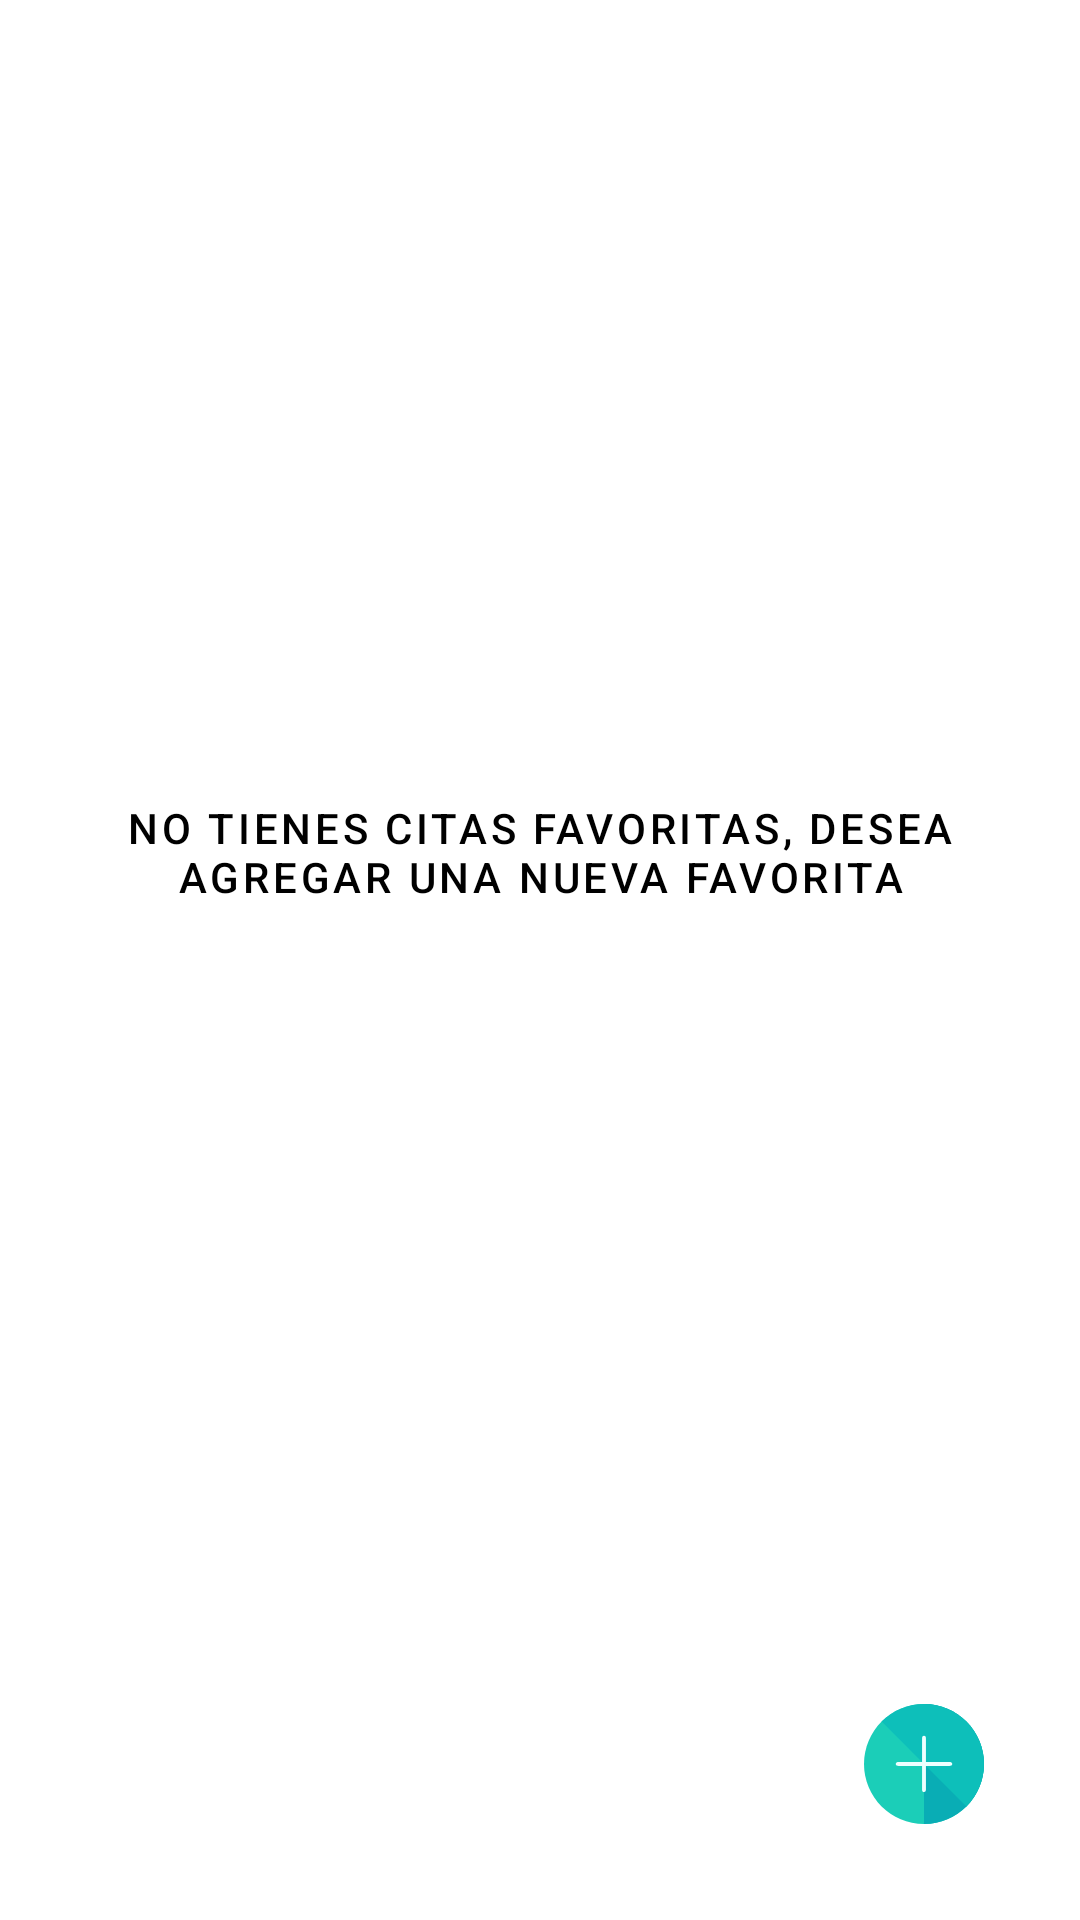

Locate icon controls on the screen. Image size 1080×1920, boxes as [left=x1, top=y1, right=x2, bottom=y2].
add quote fav: [left=864, top=1704, right=984, bottom=1824]
